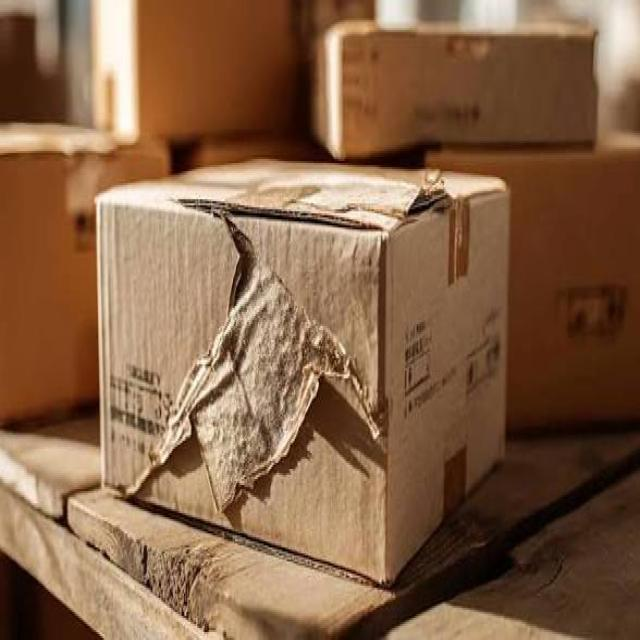carton_box: (89, 136, 547, 580)
package_damage: (160, 184, 468, 493)
